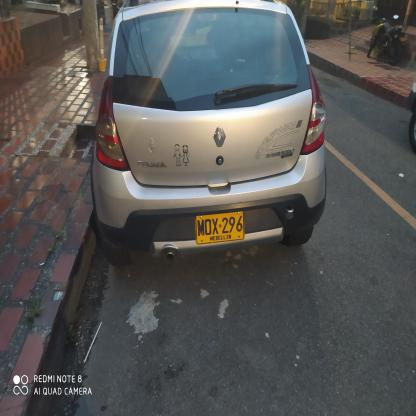placa: (191, 208, 250, 247)
